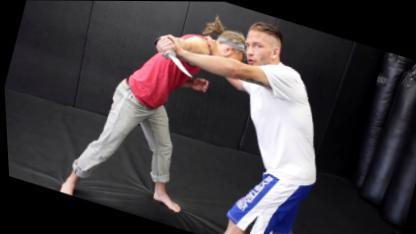knife: (144, 32, 204, 80)
